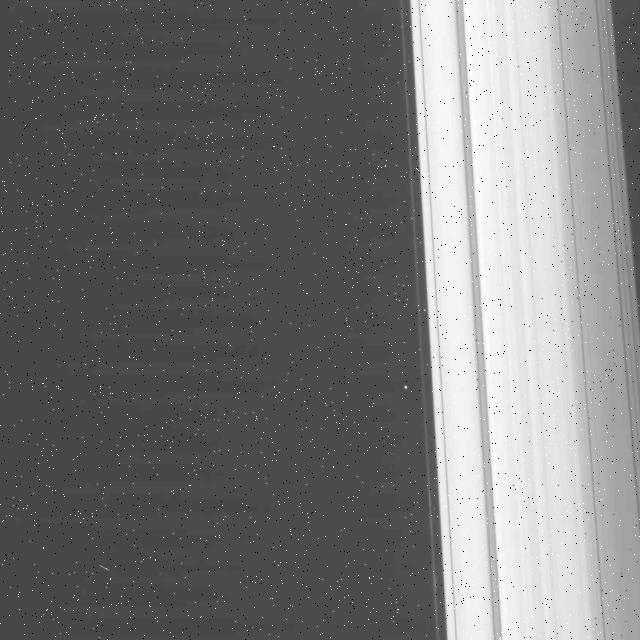Saturn: (395, 0, 640, 640)
